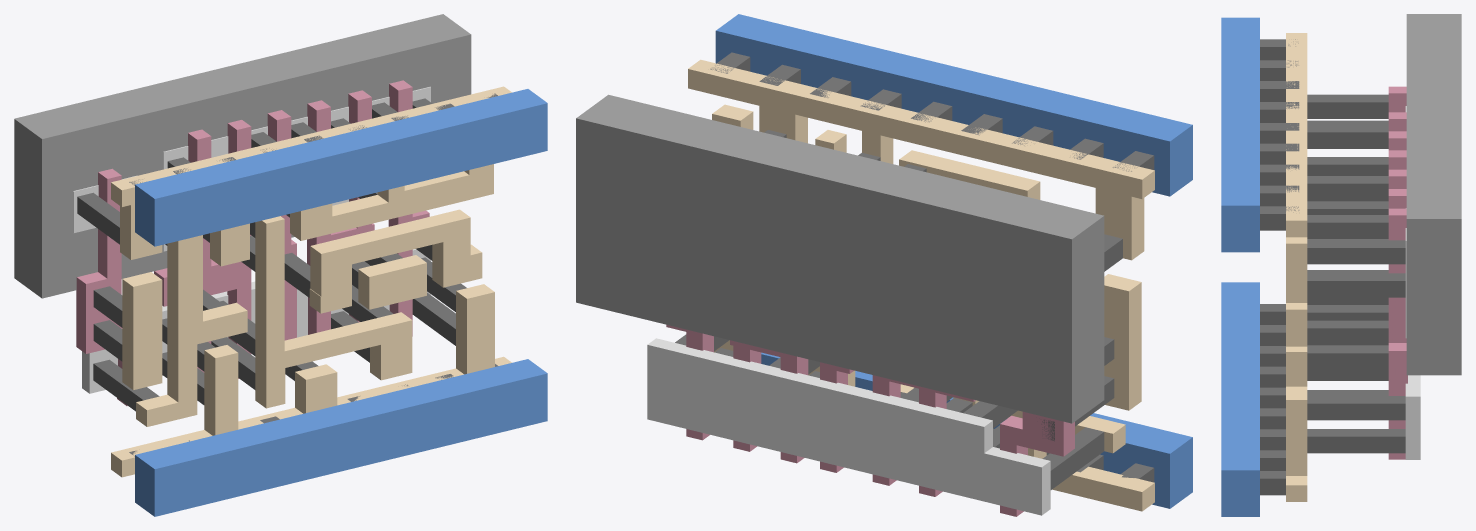
File: sky130_fd_sc_hd__a21boi_2.gds.gltf
The picture shows the model from 3 angles, left to right: view 1: azimuth 30°, elevation 25°; view 2: azimuth 150°, elevation 25°; view 3: azimuth 270°, elevation 25°; orthographic projection. The views are drawn at different scales.
Parts seen in each view (by area): view 1: sky130_fd_sc_hd__a21boi_2_li1, sky130_fd_sc_hd__a21boi_2_met1, sky130_fd_sc_hd__a21boi_2_nwell, sky130_fd_sc_hd__a21boi_2_licon, sky130_fd_sc_hd__a21boi_2_poly, sky130_fd_sc_hd__a21boi_2_diff, sky130_fd_sc_hd__a21boi_2_mcon; view 2: sky130_fd_sc_hd__a21boi_2_nwell, sky130_fd_sc_hd__a21boi_2_diff, sky130_fd_sc_hd__a21boi_2_li1, sky130_fd_sc_hd__a21boi_2_met1, sky130_fd_sc_hd__a21boi_2_poly, sky130_fd_sc_hd__a21boi_2_licon, sky130_fd_sc_hd__a21boi_2_mcon; view 3: sky130_fd_sc_hd__a21boi_2_licon, sky130_fd_sc_hd__a21boi_2_nwell, sky130_fd_sc_hd__a21boi_2_met1, sky130_fd_sc_hd__a21boi_2_mcon, sky130_fd_sc_hd__a21boi_2_li1, sky130_fd_sc_hd__a21boi_2_poly, sky130_fd_sc_hd__a21boi_2_diff.
Boxes of the visible parts, box(x1,y1,x2,y2) form: sky130_fd_sc_hd__a21boi_2_li1: box(111, 86, 511, 477); sky130_fd_sc_hd__a21boi_2_met1: box(135, 89, 547, 516); sky130_fd_sc_hd__a21boi_2_nwell: box(14, 14, 471, 298); sky130_fd_sc_hd__a21boi_2_licon: box(77, 98, 466, 411); sky130_fd_sc_hd__a21boi_2_poly: box(76, 80, 429, 405); sky130_fd_sc_hd__a21boi_2_diff: box(73, 86, 430, 393); sky130_fd_sc_hd__a21boi_2_mcon: box(129, 93, 498, 456); sky130_fd_sc_hd__a21boi_2_nwell: box(576, 94, 1104, 423); sky130_fd_sc_hd__a21boi_2_diff: box(647, 338, 1050, 515); sky130_fd_sc_hd__a21boi_2_li1: box(688, 59, 1154, 511); sky130_fd_sc_hd__a21boi_2_met1: box(715, 14, 1192, 508); sky130_fd_sc_hd__a21boi_2_poly: box(666, 324, 1074, 516); sky130_fd_sc_hd__a21boi_2_licon: box(675, 130, 1122, 489); sky130_fd_sc_hd__a21boi_2_mcon: box(710, 52, 1154, 482); sky130_fd_sc_hd__a21boi_2_licon: box(1307, 94, 1405, 453); sky130_fd_sc_hd__a21boi_2_nwell: box(1406, 14, 1461, 375); sky130_fd_sc_hd__a21boi_2_met1: box(1221, 17, 1259, 516); sky130_fd_sc_hd__a21boi_2_mcon: box(1260, 39, 1299, 495); sky130_fd_sc_hd__a21boi_2_li1: box(1286, 33, 1307, 501); sky130_fd_sc_hd__a21boi_2_poly: box(1388, 86, 1407, 459); sky130_fd_sc_hd__a21boi_2_diff: box(1405, 106, 1420, 459).
Bounding box in the file's own units: 4.52 × 3.2 × 2.24.
